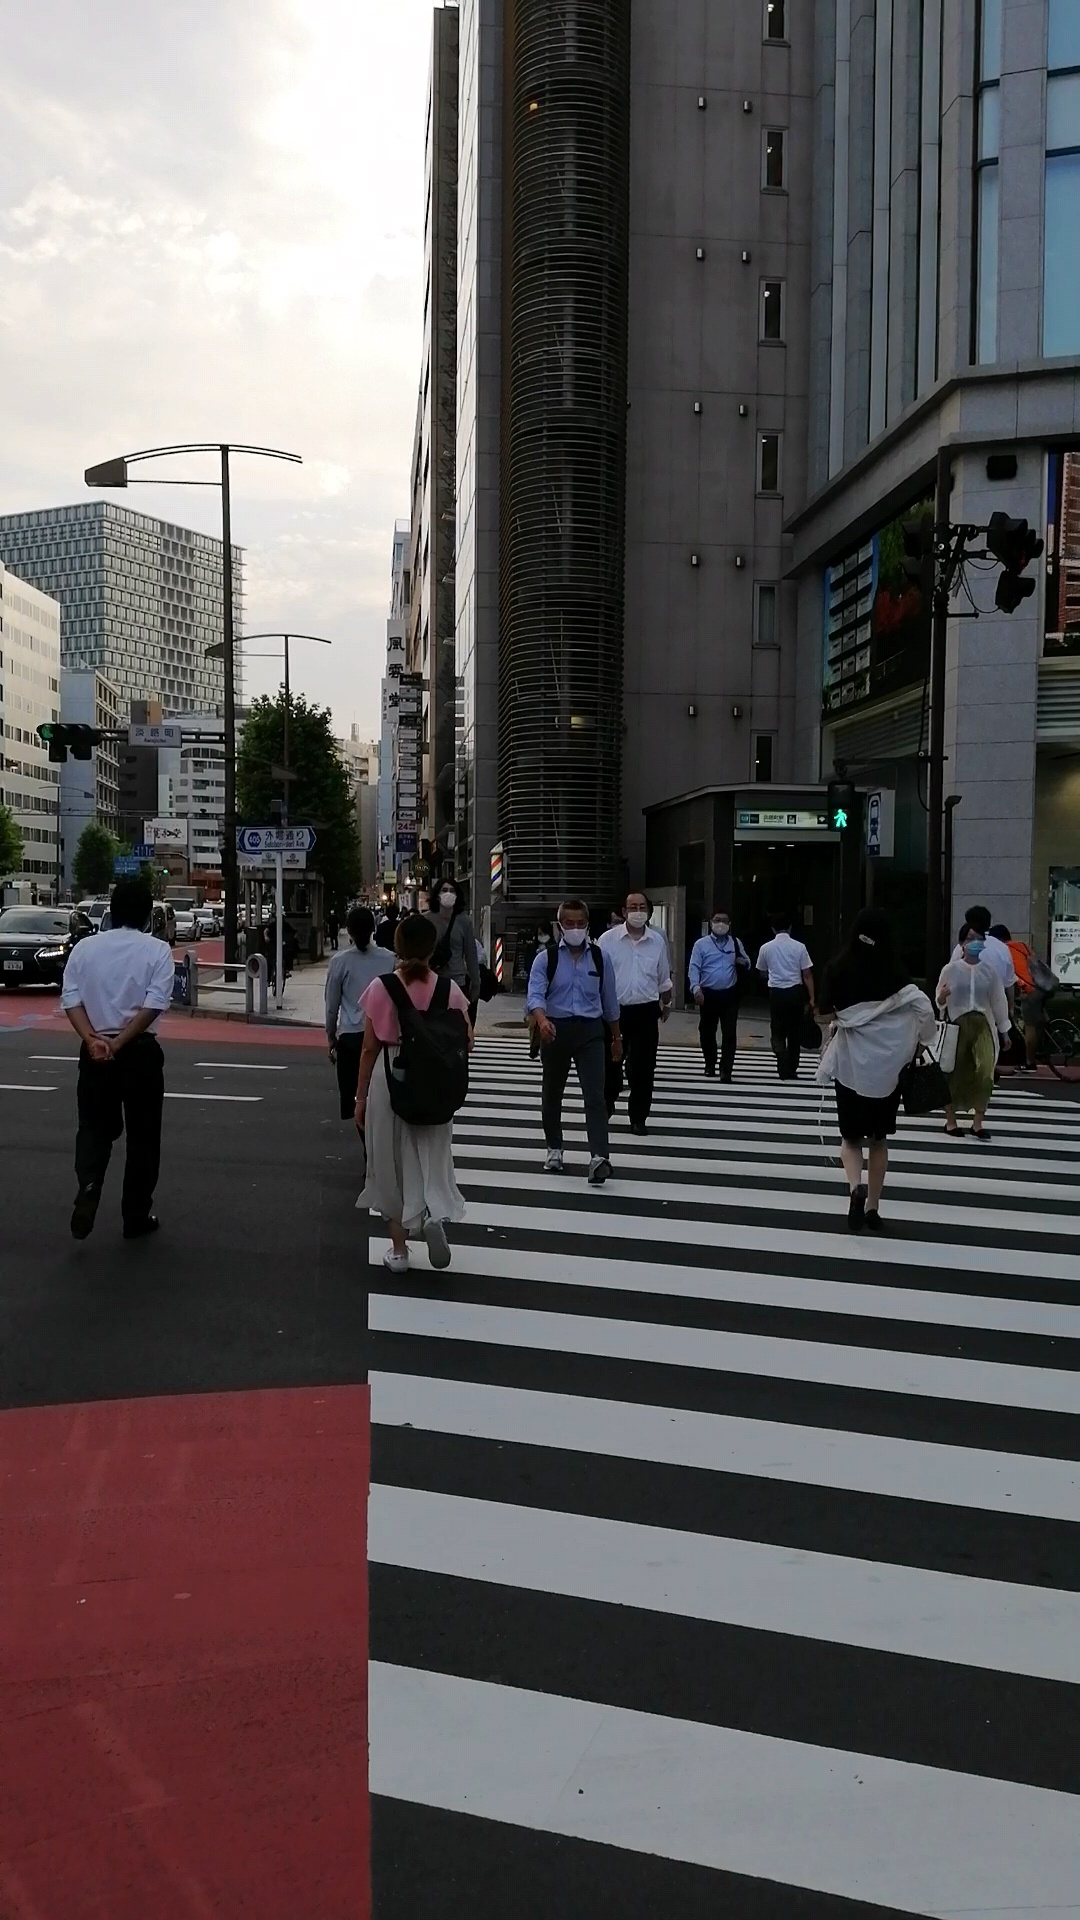green: (825, 779, 855, 833)
